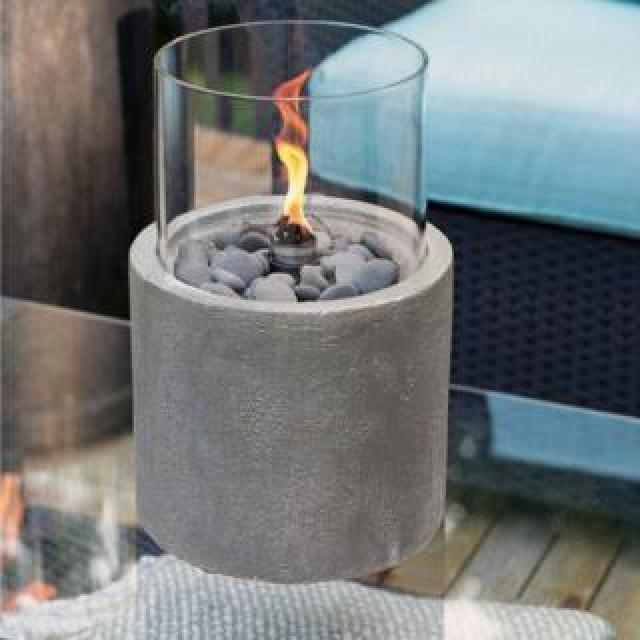Fire: (264, 70, 318, 234)
